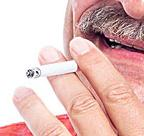smoke: (26, 55, 93, 79)
